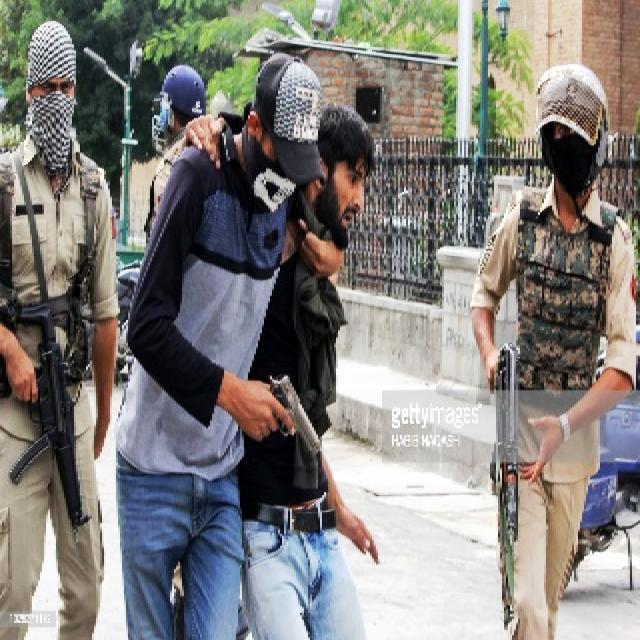Gun: (0, 292, 101, 526), (475, 352, 549, 615), (246, 371, 320, 452)
